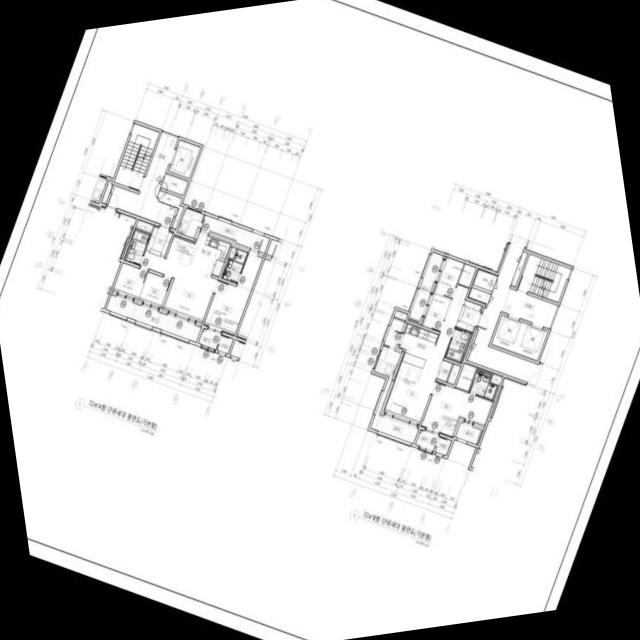background: (0, 0, 640, 640)
space_balconi: (370, 318, 418, 443), (105, 295, 201, 342), (177, 208, 269, 253), (408, 252, 442, 321), (415, 429, 451, 455), (455, 422, 481, 444), (198, 328, 220, 349)
space_bedroom: (203, 253, 262, 336), (420, 382, 492, 437), (433, 257, 463, 299), (112, 263, 147, 299), (138, 272, 170, 307), (421, 294, 450, 331)
space_elevator: (491, 315, 524, 352), (514, 323, 547, 360), (168, 140, 200, 178)
space_elevator_hall: (467, 235, 557, 386), (106, 132, 178, 228)
space_front: (145, 226, 173, 258), (456, 300, 482, 332)
space_kitchen: (393, 324, 438, 389), (166, 233, 230, 277)
space_living_room: (384, 285, 468, 424), (140, 251, 217, 322)
space_other: (157, 190, 183, 229), (160, 173, 187, 195), (455, 363, 476, 391), (511, 252, 527, 287), (472, 269, 497, 291), (467, 287, 491, 308), (457, 264, 475, 287), (465, 329, 478, 360), (490, 374, 502, 401), (437, 360, 452, 381), (217, 335, 232, 353), (101, 180, 112, 204), (447, 364, 460, 384), (135, 220, 153, 233), (393, 310, 407, 320), (228, 247, 236, 258)
space_staircase: (114, 124, 158, 190), (517, 254, 570, 302)
space_toilet: (124, 229, 150, 265), (221, 249, 247, 283), (445, 328, 470, 362), (469, 370, 496, 399)
